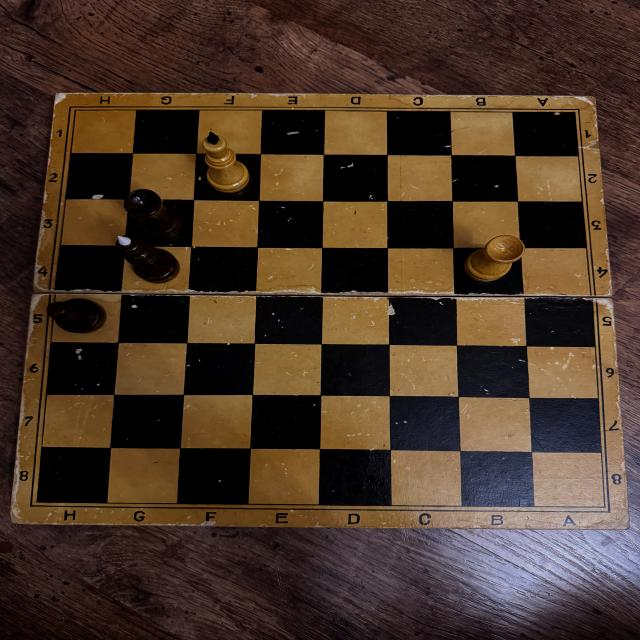black-king: (116, 235, 180, 284)
black-pawn: (45, 296, 107, 334)
black-rook: (124, 188, 184, 239)
white-king: (200, 131, 252, 194)
white-rook: (465, 235, 525, 282)
